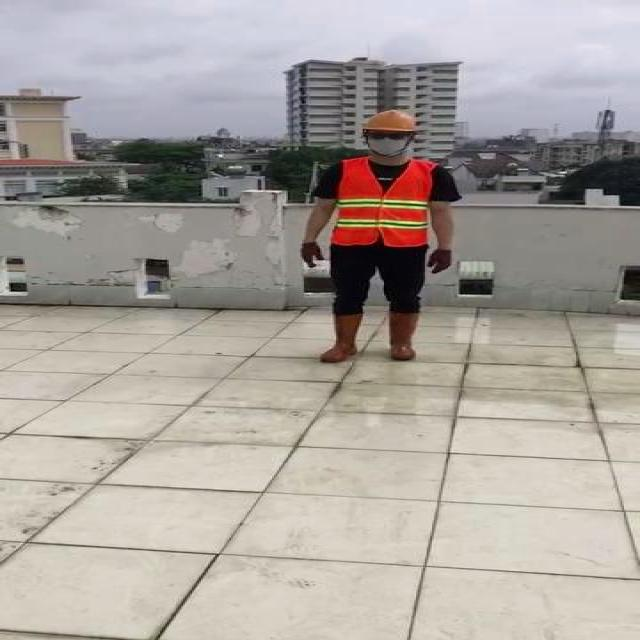boots: (316, 310, 364, 362), (384, 308, 423, 361)
face_mask: (364, 130, 409, 157)
glasses: (362, 130, 412, 142)
hand_glove: (427, 245, 453, 275), (302, 243, 326, 269)
head_helmet: (362, 109, 420, 133)
person: (291, 105, 463, 364)
vest: (327, 158, 441, 248)
